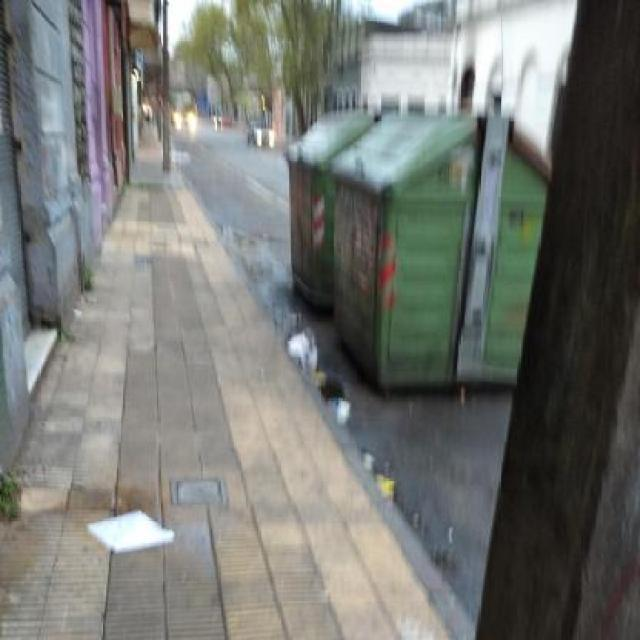garbage: (269, 282, 366, 463), (79, 480, 176, 574)
